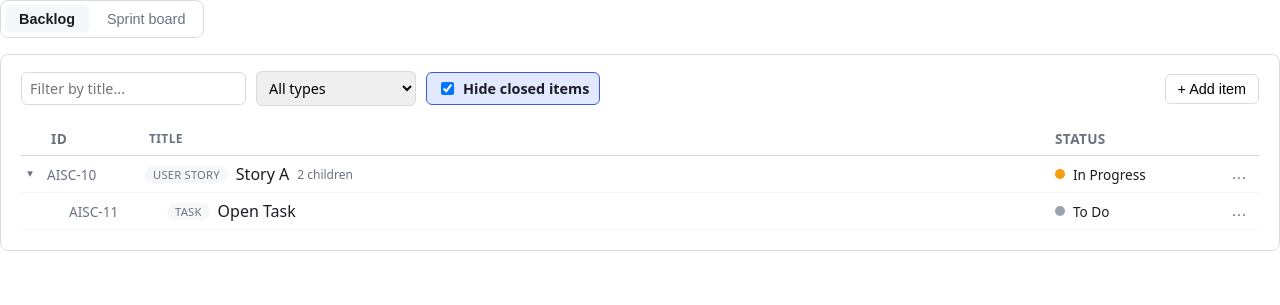
Scenario: BacklogPage - Hide closed items toggle defaults to on (bug fix) › turning the toggle back on re-fetches with the filter and hides Done/Closed items again
Expected: the button "User Story Story A 2 children" is shown, [145,163,353,185]
Click the checkbox labelled "Hide closed items" at {"x": 448, "y": 88}, box [441,82,454,95]
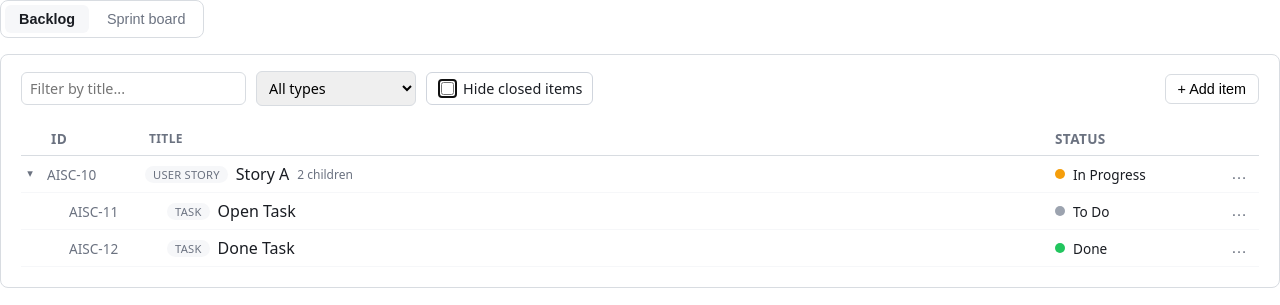
Now the button "Task Done Task" is shown, box [167,237,295,259]
Click the checkbox labelled "Hide closed items" at {"x": 448, "y": 88}, box [441,82,454,95]
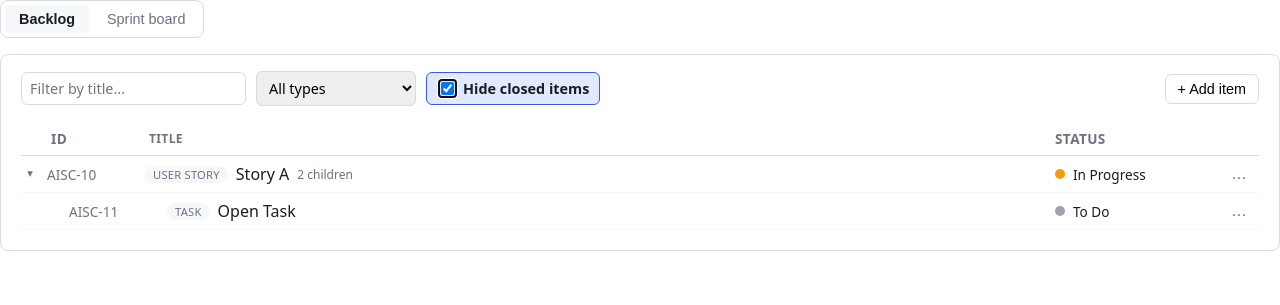
Now the button "Done Task" is gone
